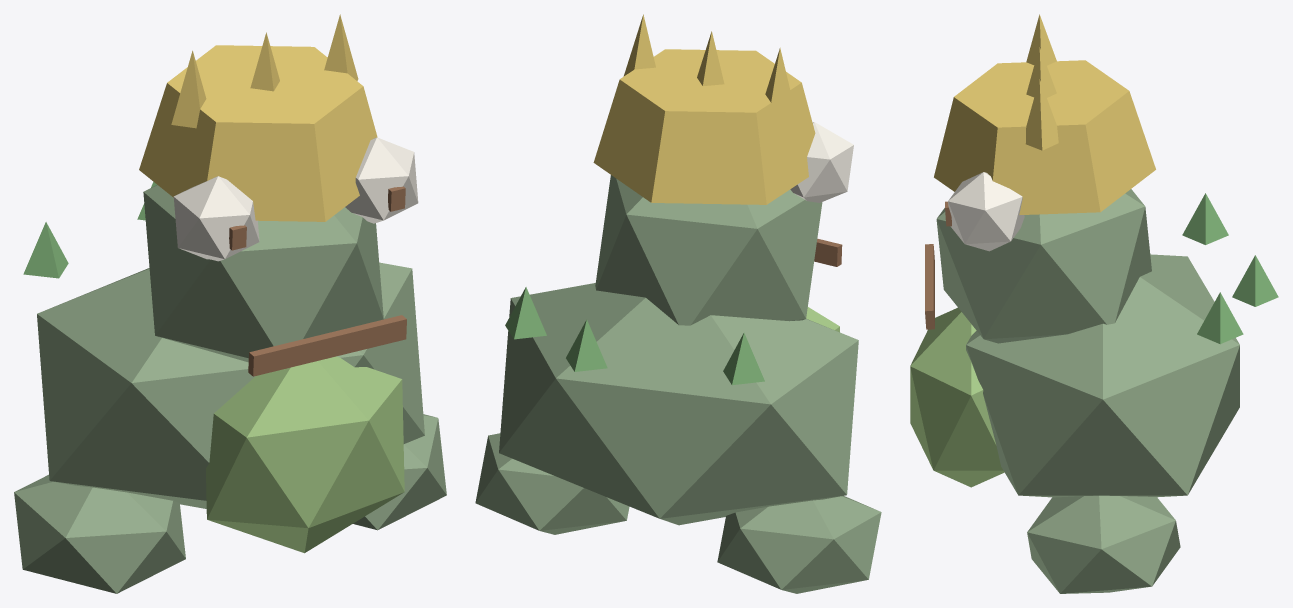
File: npcpose_toad_king_idle_02.glb
3 renders of one model, left to right at view 1: azimuth 30°, elevation 25°; view 2: azimuth 150°, elevation 25°; view 3: azimuth 270°, elevation 25°, orthographic. The views are drawn at different scales.
Parts seen in each view (by area): view 1: npcpose; view 2: npcpose; view 3: npcpose.
Part boxes in pixels (x1=…): npcpose: x1=14, y1=14, x2=446, y2=593; npcpose: x1=475, y1=14, x2=881, y2=593; npcpose: x1=910, y1=14, x2=1278, y2=593.
Size of the model in its own units: 1.75 by 2.21 by 1.51.
